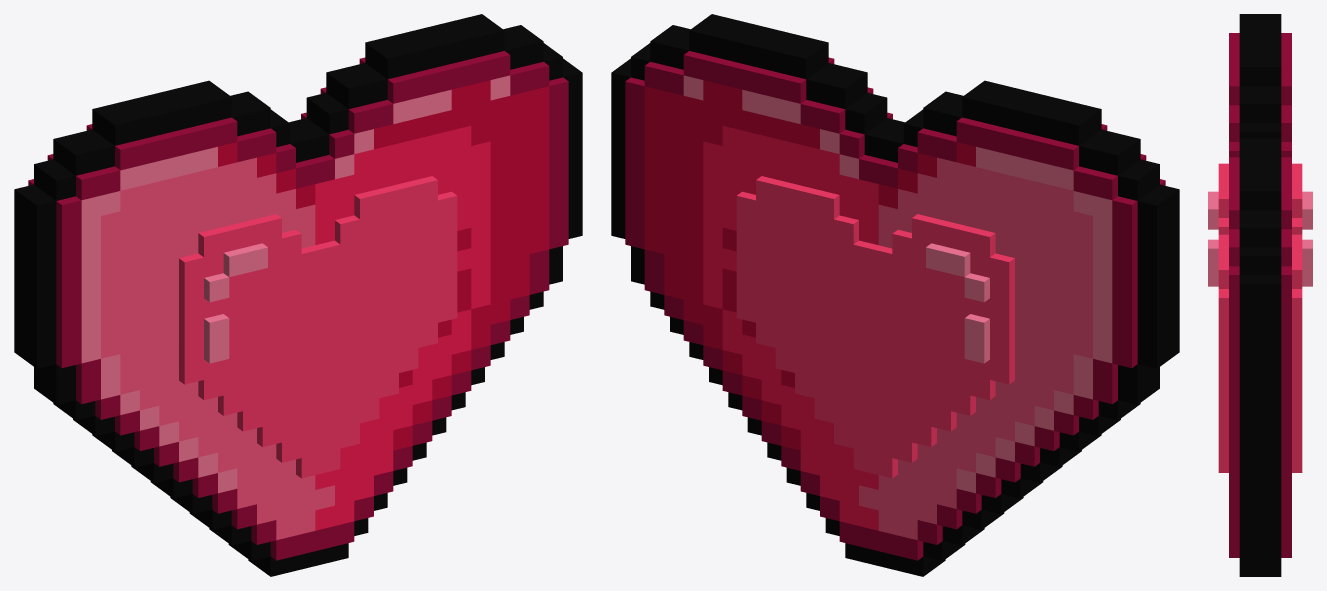
Rendered from heart.glb.
3 renders of one model, left to right at view 1: azimuth 30°, elevation 25°; view 2: azimuth 150°, elevation 25°; view 3: azimuth 270°, elevation 25°, orthographic. The views are drawn at different scales.
Parts seen in each view (by area): view 1: generated(Clone); view 2: generated(Clone); view 3: generated(Clone).
Part boxes in pixels (bbox=[...]): generated(Clone): bbox=[14, 14, 582, 576]; generated(Clone): bbox=[611, 14, 1179, 576]; generated(Clone): bbox=[1208, 14, 1312, 576].
Bounding box in the file's own units: 28 × 24 × 5.
